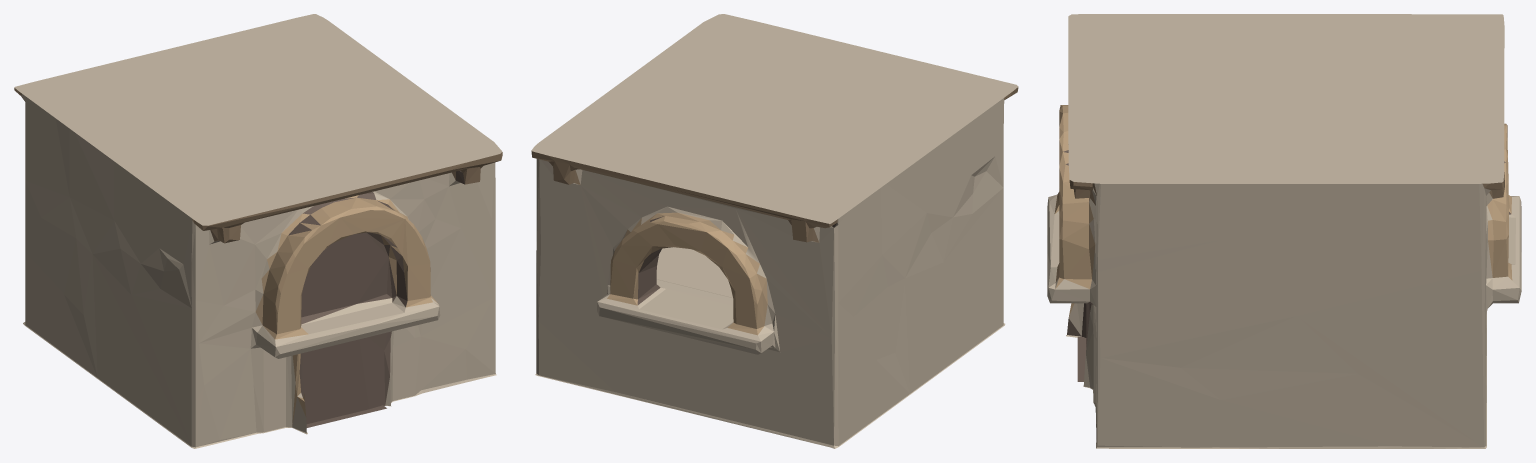
File: etape-1.glb
3 views of the same model, side by side, from view 1: azimuth 30°, elevation 25°; view 2: azimuth 150°, elevation 25°; view 3: azimuth 270°, elevation 25° (orthographic). The views are drawn at different scales.
Visible parts, largest first — view 1: geometry_0; view 2: geometry_0; view 3: geometry_0.
Part boxes in pixels (<box>): geometry_0: <box>14,14,502,448</box>; geometry_0: <box>531,14,1018,448</box>; geometry_0: <box>1047,14,1521,448</box>.
Bounding box in the file's own units: 0.7545 × 0.5463 × 0.8879.
